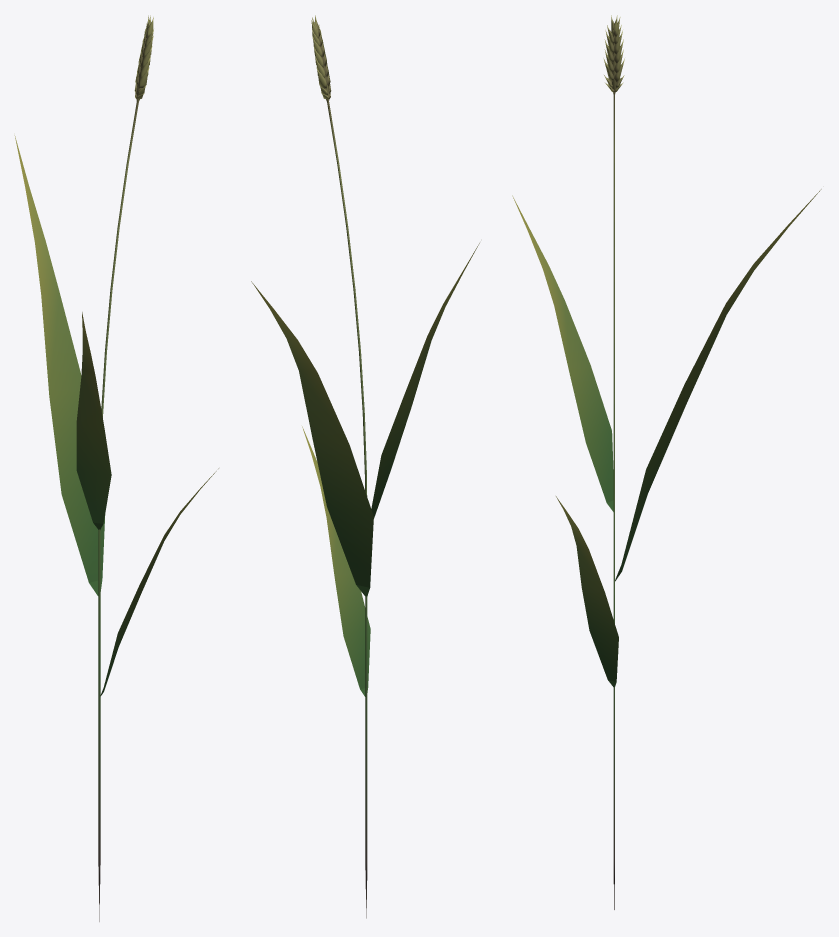
The model's file is trees-grasses-grass-stalk_v4.fbx.
3 views of the same model, side by side, from view 1: azimuth 30°, elevation 25°; view 2: azimuth 150°, elevation 25°; view 3: azimuth 270°, elevation 25° (orthographic). The views are drawn at different scales.
Parts seen in each view (by area): view 1: Grass Stalk_v4; view 2: Grass Stalk_v4; view 3: Grass Stalk_v4.
Part boxes in pixels (box(x1,y1,x2,y2)): Grass Stalk_v4: box(14, 15, 218, 921); Grass Stalk_v4: box(251, 15, 479, 918); Grass Stalk_v4: box(512, 15, 821, 909).
Bounding box in the file's own units: 0.1502 × 0.8 × 0.2427.
